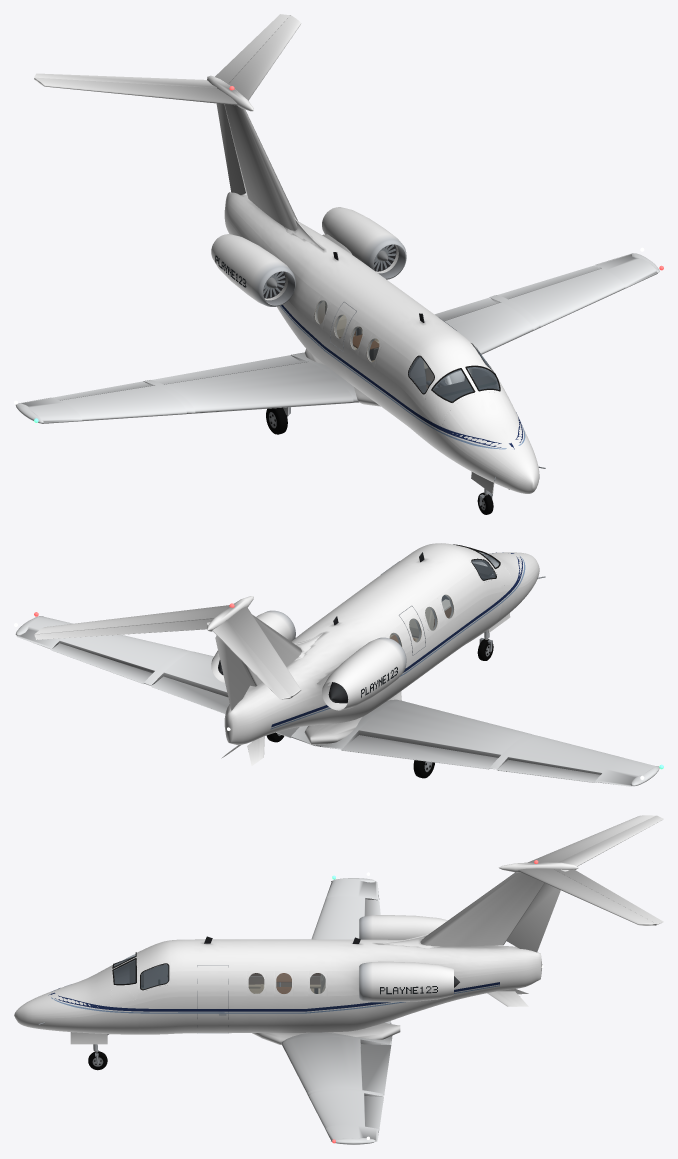
The model's file is phenom100.glb.
3 renders of one model, top to bottom at view 1: azimuth 30°, elevation 25°; view 2: azimuth 150°, elevation 25°; view 3: azimuth 270°, elevation 25°, orthographic. The views are drawn at different scales.
Visible parts, largest first — view 1: body, canopy, flapR, elevR, elevL, rudder; view 2: body, flapR, elevL, elevR, flapL, rudder, ailL, ailR, canopy; view 3: body, canopy, rudder, flapL, elevR, elevL, ailL.
Boxes of the visible parts, box(x1,y1,x2,y2) form: body: box(15, 15, 663, 493); canopy: box(315, 300, 498, 401); flapR: box(152, 355, 301, 384); elevR: box(34, 73, 223, 87); elevL: box(215, 14, 289, 83); rudder: box(216, 103, 245, 195); body: box(15, 543, 663, 786); flapR: box(341, 735, 497, 769); elevL: box(34, 618, 213, 639); elevR: box(207, 620, 291, 699); flapL: box(151, 676, 299, 738); rudder: box(215, 635, 251, 710); ailL: box(51, 643, 152, 684); ailR: box(497, 759, 600, 782); canopy: box(390, 552, 498, 645); body: box(14, 815, 656, 1144); canopy: box(114, 954, 325, 993); rudder: box(507, 883, 560, 952); flapL: box(361, 1044, 391, 1093); elevR: box(558, 815, 663, 871); elevL: box(555, 869, 663, 925); ailL: box(364, 1096, 383, 1128).
Bounding box in the file's own units: 12.29 × 4.51 × 12.71.
